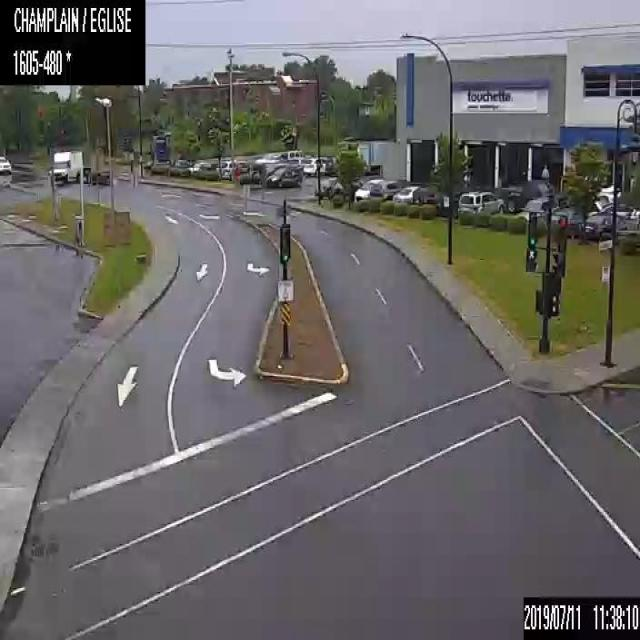pedestrian: (540, 163, 549, 178)
vehicle: (500, 178, 554, 212), (551, 203, 596, 231), (48, 146, 82, 182), (598, 202, 639, 230), (412, 185, 448, 216), (458, 191, 503, 214), (314, 177, 362, 198), (518, 196, 559, 220), (586, 212, 623, 236), (352, 177, 385, 202), (440, 189, 469, 217), (266, 165, 302, 186), (369, 179, 402, 201), (592, 185, 620, 210), (392, 184, 418, 203), (215, 158, 236, 178), (302, 156, 325, 174), (262, 162, 286, 178), (252, 157, 278, 170), (239, 168, 260, 184), (91, 168, 110, 185), (280, 148, 302, 161), (188, 160, 208, 174), (325, 155, 337, 175), (0, 155, 11, 173), (286, 155, 304, 166), (82, 164, 91, 183), (234, 160, 248, 172), (175, 158, 188, 168), (268, 153, 282, 161)
